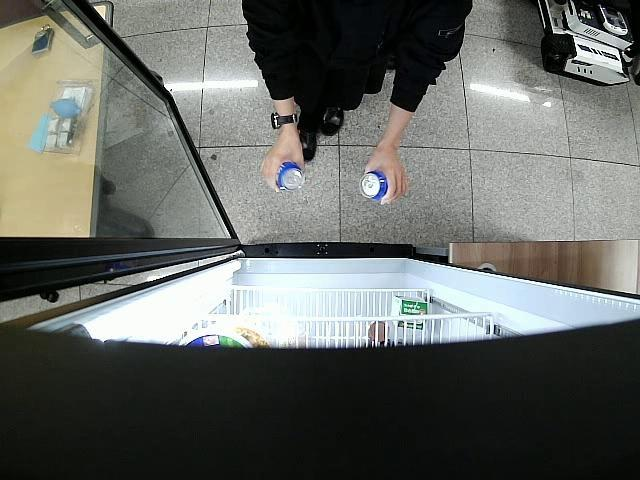13_pocariSweat: (276, 160, 304, 192), (361, 169, 388, 201)
